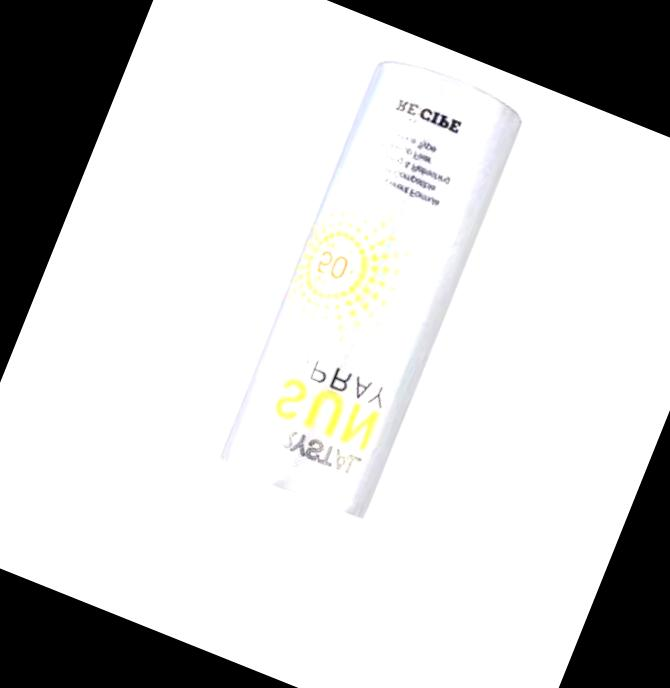cosmetic: (162, 51, 533, 661)
